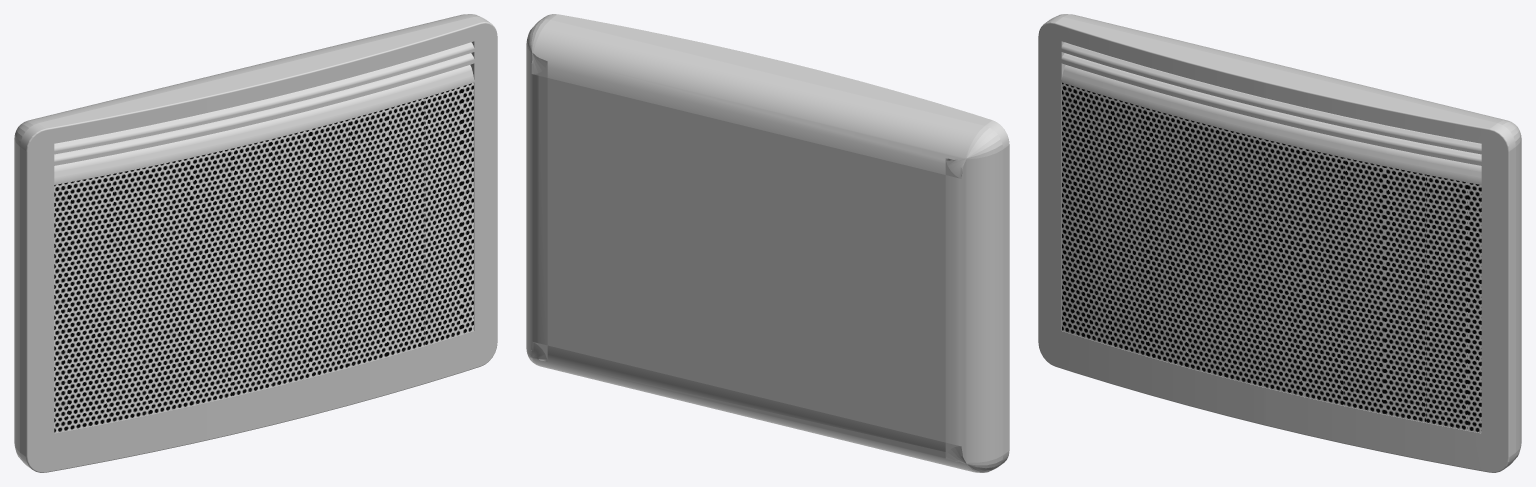
The model's file is heater_small.glb.
3 renders of one model, left to right at view 1: azimuth 30°, elevation 25°; view 2: azimuth 150°, elevation 25°; view 3: azimuth 330°, elevation 25°, orthographic.
Parts seen in each view (by area): view 1: Geom3D, Geom3D_Composant#3, Geom3D_Composant#1; view 2: Geom3D_Composant#1, Geom3D_Composant#3; view 3: Geom3D, Geom3D_Composant#3, Geom3D_Composant#1.
Part boxes in pixels (left/top/right/bottom): Geom3D: left=54, top=82, right=473, bottom=433; Geom3D_Composant#3: left=23, top=19, right=497, bottom=472; Geom3D_Composant#1: left=14, top=14, right=486, bottom=466; Geom3D_Composant#1: left=526, top=17, right=1006, bottom=472; Geom3D_Composant#3: left=541, top=14, right=1009, bottom=463; Geom3D: left=1062, top=82, right=1481, bottom=433; Geom3D_Composant#3: left=1038, top=19, right=1512, bottom=472; Geom3D_Composant#1: left=1049, top=14, right=1521, bottom=466.
Bounding box in the file's own units: 0.645 × 0.45 × 0.088.
1 material, 1 textured.
